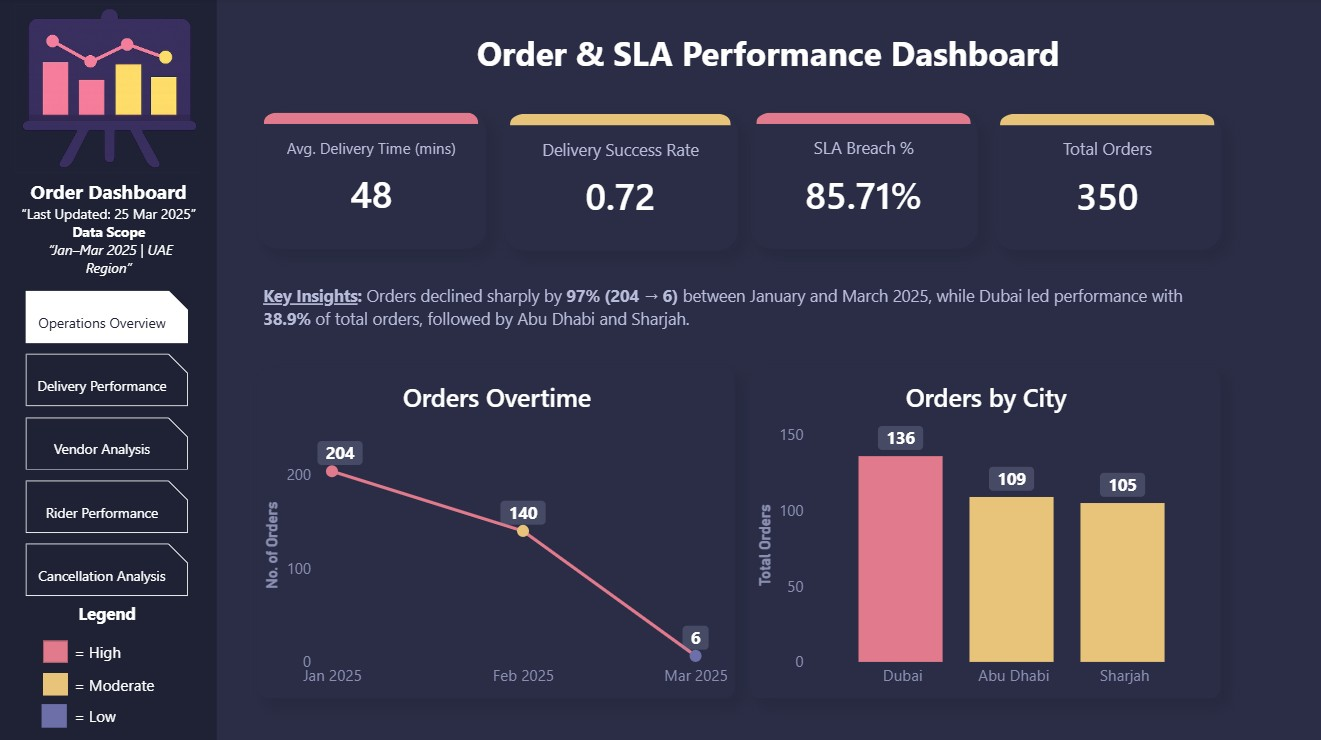

This screenshot's page, from the dashboard's own definition file:
{"tool":"powerbi","page":{"name":"Operations Overview","canvas":[1280,720],"ordinal":0},"visuals":[{"type":"shape","box":[1.2,0,209.9,720.2],"z":0,"group":"g2"},{"type":"textbox","box":[457.1,27.1,576.7,60.4],"z":0},{"type":"shape","box":[44.3,620.4,24.2,21.6],"z":0,"group":"g4"},{"type":"image","box":[17.2,6.2,179.9,162.6],"z":1000,"group":"g5"},{"type":"cardVisual","fields":{"Data":["Orders.Average Delivery Time"]},"box":[250.9,109.8,219.9,132.2],"z":1000,"group":"g1"},{"type":"textbox","box":[250.9,271.4,930.2,76],"z":1000},{"type":"textbox","box":[69.7,616.1,62.9,31.3],"z":1000,"group":"g4"},{"type":"group","id":"g1","title":"Group 4","box":[250.9,109.8,929,133.9],"z":2000},{"type":"pageNavigator","box":[27.1,282.2,157.7,295.7],"z":2000,"group":"g5"},{"type":"lineChart","title":"Orders Overtime","fields":{"Y":["CountNonNull(Orders.OrderID)"],"Category":["Orders.OrderTime.Variation.Date Hierarchy.Year","Orders.OrderTime.Variation.Date Hierarchy.Month"]},"box":[250.9,358.3,459.7,317.5],"z":2000,"group":"g3"},{"type":"shape","box":[44.3,651.7,24.2,21.6],"z":2000,"group":"g4"},{"type":"group","id":"g2","title":"Group 3","box":[1.2,0,209.5,720.8],"z":3000},{"type":"textbox","box":[17.2,168.8,179.9,113.4],"z":3000,"group":"g5"},{"type":"columnChart","title":"Orders by City","fields":{"Category":["Orders.City"],"Y":["Orders.Total Orders"]},"box":[726.6,358.4,453.4,317.5],"z":3000,"group":"g3"},{"type":"textbox","box":[62.8,577.9,87.5,38.2],"z":3000,"group":"g4"},{"type":"group","id":"g3","title":"Group 5","box":[250.9,358.3,929,318.5],"z":4000},{"type":"group","id":"g4","title":"Group 2","box":[43.1,577.9,126.9,131.8],"z":4000,"group":"g5"},{"type":"textbox","box":[69.7,647.4,100.3,31.3],"z":4000,"group":"g4"},{"type":"group","id":"g5","title":"Group 1","box":[17.2,6.2,179.9,703.6],"z":4001,"group":"g2"},{"type":"cardVisual","fields":{"Data":["Orders.Total Orders"]},"box":[961.7,111.6,219.5,131.7],"z":5000,"group":"g1"},{"type":"shape","box":[43.1,681.8,24.2,22.6],"z":5000,"group":"g4"},{"type":"cardVisual","fields":{"Data":["Orders.SLA Breach %"]},"box":[726.2,110.3,219.5,131.7],"z":6000,"group":"g1"},{"type":"textbox","box":[69.7,678.6,62.9,31.3],"z":6000,"group":"g4"},{"type":"cardVisual","fields":{"Data":["Orders.Delivery Success Rate"]},"box":[488.2,111.6,225.7,132.6],"z":7000,"group":"g1"}]}

Visuals, with their boxes in screenshot pixels (x1, y1, x2, y2), scaled from the page's 1280x720 canvas onto the 1321x740 screenshot:
shape: (1,0,218,739)
textbox: (472,28,1067,90)
shape: (46,638,71,660)
image: (18,6,203,173)
cardVisual - Orders.Average Delivery Time: (259,113,486,249)
textbox: (259,279,1219,357)
textbox: (72,633,137,665)
"Group 4" group: (259,113,1218,250)
pageNavigator: (28,290,191,594)
"Orders Overtime" lineChart: (259,368,733,695)
shape: (46,670,71,692)
"Group 3" group: (1,0,217,739)
textbox: (18,173,203,290)
"Orders by City" columnChart: (750,368,1218,695)
textbox: (65,594,155,633)
"Group 5" group: (259,368,1218,696)
"Group 2" group: (44,594,175,729)
textbox: (72,665,175,698)
"Group 1" group: (18,6,203,730)
cardVisual - Orders.Total Orders: (993,115,1219,250)
shape: (44,701,69,724)
cardVisual - Orders.SLA Breach %: (749,113,976,249)
textbox: (72,697,137,730)
cardVisual - Orders.Delivery Success Rate: (504,115,737,251)
